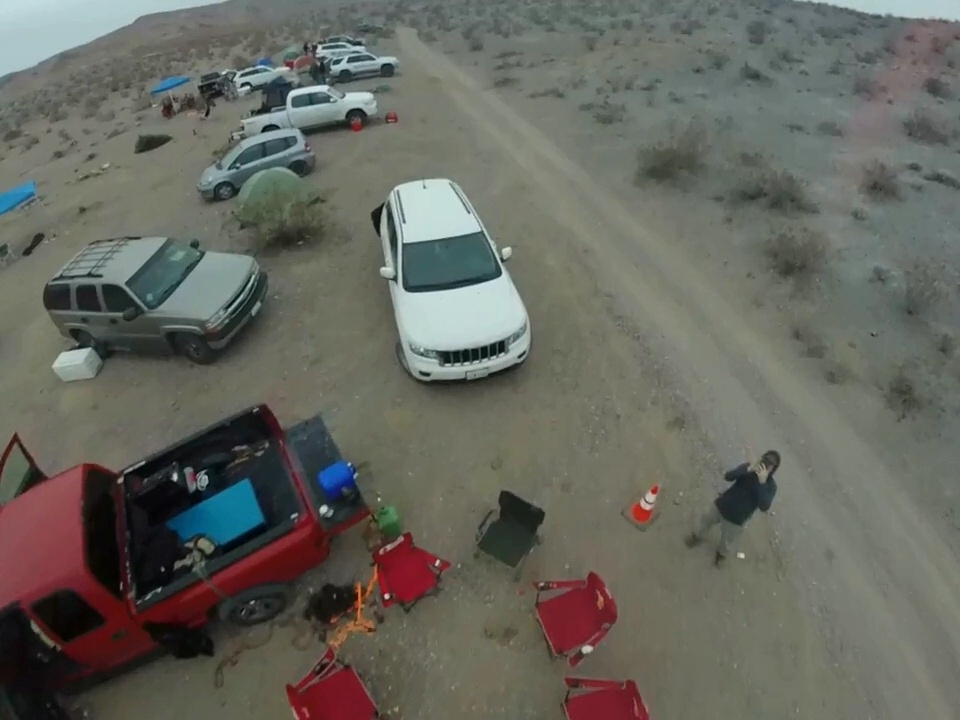araba: (372, 177, 539, 394), (39, 235, 273, 368), (196, 124, 319, 200), (326, 52, 399, 85)
insan: (681, 450, 786, 566)
kamyonet: (1, 361, 345, 685), (235, 78, 382, 145)
